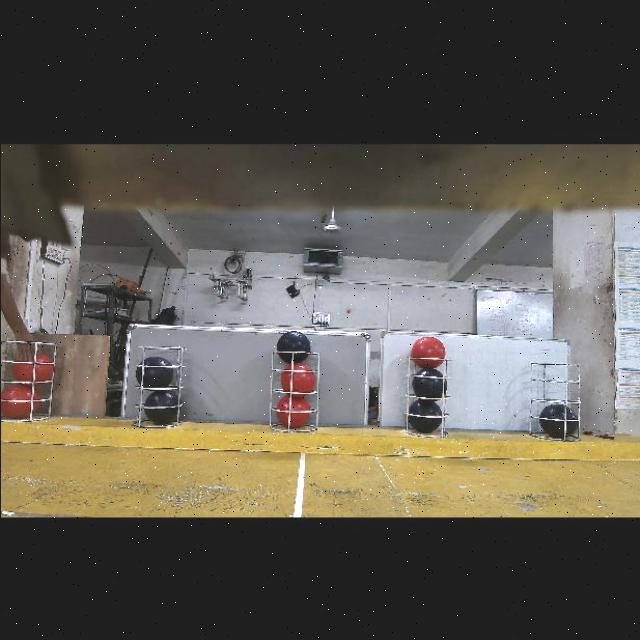P: (539, 402, 578, 438), (137, 354, 176, 386), (142, 389, 177, 424), (408, 398, 442, 432), (276, 329, 309, 363), (412, 366, 447, 397)
R: (0, 383, 39, 418), (11, 350, 52, 381), (411, 335, 446, 367), (279, 361, 315, 392), (276, 394, 309, 427)
S: (265, 349, 323, 435), (127, 337, 183, 411), (401, 354, 454, 432), (528, 362, 584, 430), (6, 338, 60, 396)
